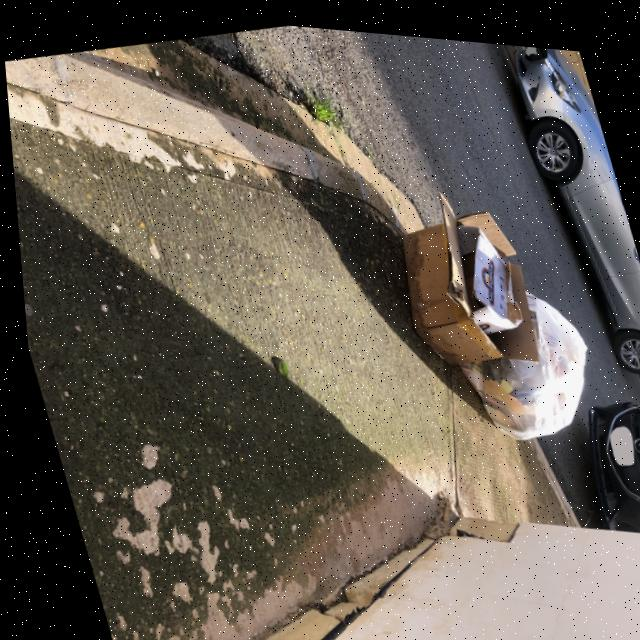Other: (373, 167, 543, 378), (443, 209, 524, 330)
Recycled Waste -Grey or Green Bag-: (434, 265, 605, 446)
